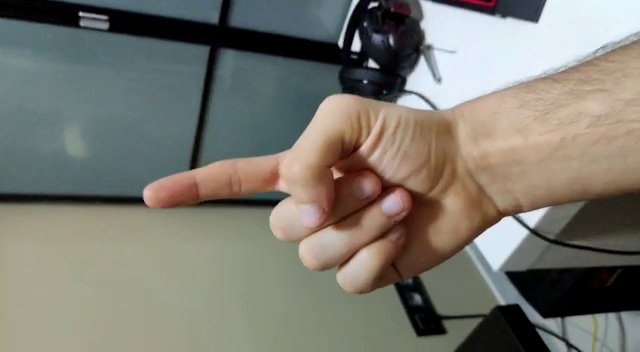One: (139, 88, 480, 291)
